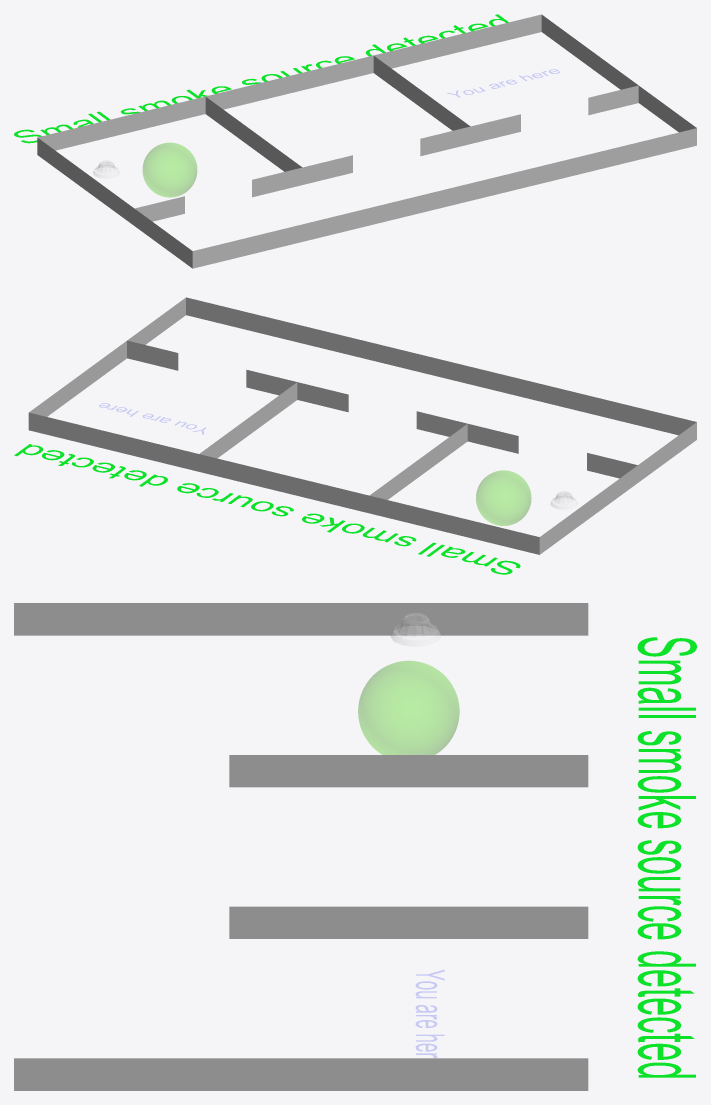
The model's file is noAlert.glb.
3 views of the same model, one above another, from view 1: azimuth 30°, elevation 25°; view 2: azimuth 150°, elevation 25°; view 3: azimuth 270°, elevation 25° (orthographic). The views are drawn at different scales.
Parts seen in each view (by area): view 1: Object_12, Object_11, Object_14, Object_18, Object_17, Object_19, Object_16, Object_15; view 2: Object_12, Object_11, Object_18, Object_14, Object_17, Object_19, Object_16, Object_15; view 3: Object_12, Object_17, Object_19, Object_11, smoke_detector.1.
Boxes of the visible parts, x1,y1,x2,y2 form: Object_12: (37,14,696,268); Object_11: (143,143,196,197); Object_14: (420,114,520,156); Object_18: (252,155,352,197); Object_17: (373,56,470,130); Object_19: (205,97,302,171); Object_16: (588,85,638,115); Object_15: (135,196,184,221); Object_12: (28,297,696,554); Object_11: (476,470,531,525); Object_18: (416,411,518,453); Object_14: (246,369,348,412); Object_17: (199,382,297,458); Object_19: (370,424,467,499); Object_16: (127,340,178,370); Object_15: (587,453,637,478); Object_12: (14,603,588,1090); Object_17: (229,906,588,938); Object_19: (229,755,588,787); Object_11: (358,661,459,754); smoke_detector.1: (390,613,440,646).
Bounding box in the file's own units: 3 × 0.2828 × 1.9.
